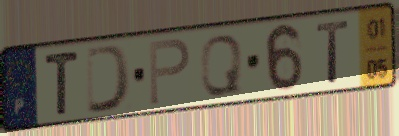6: (262, 21, 305, 95)
D: (84, 42, 134, 117)
P: (147, 36, 193, 108)
Q: (199, 32, 245, 98)
T: (42, 48, 82, 118), (314, 18, 353, 86)
